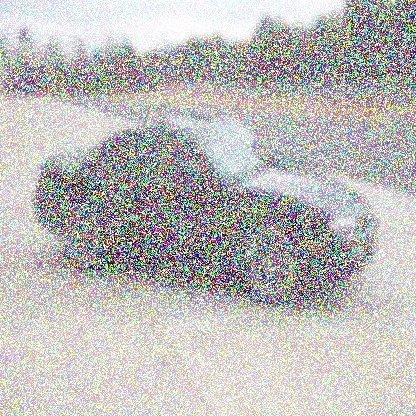Vehicle: (32, 112, 379, 308)
